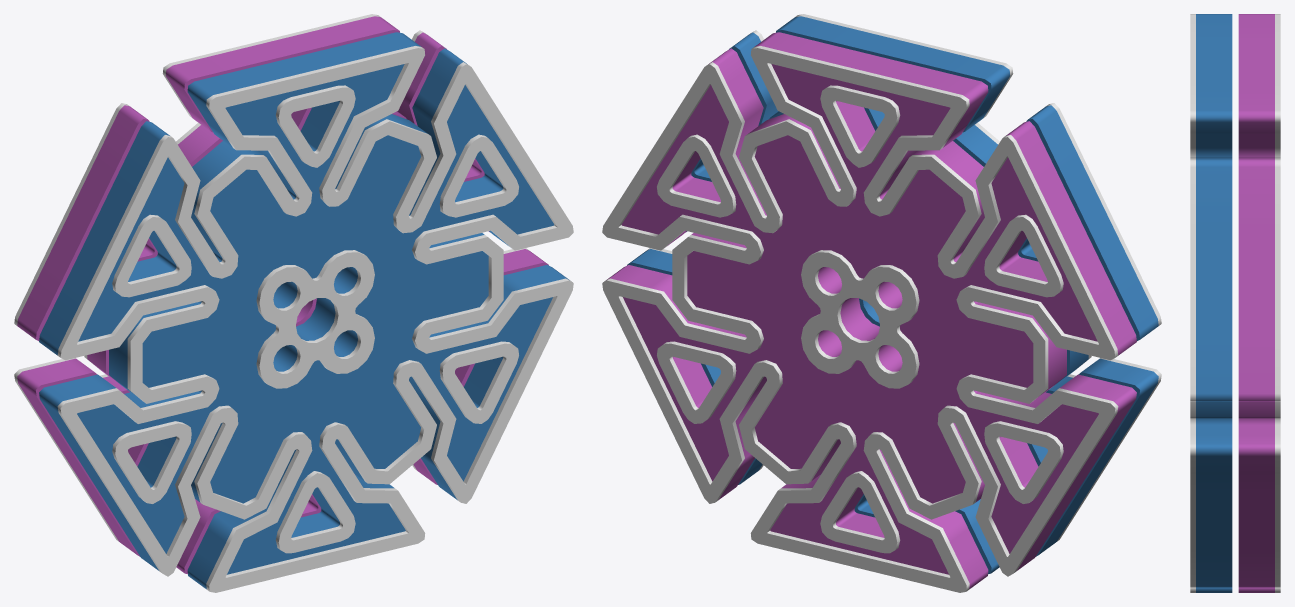
Rendered from nano6.fbx.
3 views of the same model, side by side, from view 1: azimuth 30°, elevation 25°; view 2: azimuth 150°, elevation 25°; view 3: azimuth 270°, elevation 25° (orthographic). The views are drawn at different scales.
Parts seen in each view (by area): view 1: bodyTop, tracerTop, bodyBottom, tracerBottom; view 2: bodyBottom, tracerBottom, bodyTop, tracerTop; view 3: bodyTop, bodyBottom, tracerTop, tracerBottom.
Part boxes in pixels (x1,y1,x2,y2): bodyTop: (39, 32, 569, 589); tracerTop: (57, 46, 573, 592); bodyBottom: (17, 16, 548, 574); tracerBottom: (14, 14, 529, 541); bodyBottom: (606, 32, 1136, 589); tracerBottom: (602, 46, 1118, 592); bodyTop: (627, 16, 1158, 574); tracerTop: (646, 14, 1161, 541); bodyTop: (1196, 14, 1232, 592); bodyBottom: (1238, 14, 1274, 592); tracerTop: (1190, 14, 1195, 592); tracerBottom: (1275, 14, 1280, 592).
Bounding box in the file's own units: 0.9385 × 0.8661 × 0.147.
